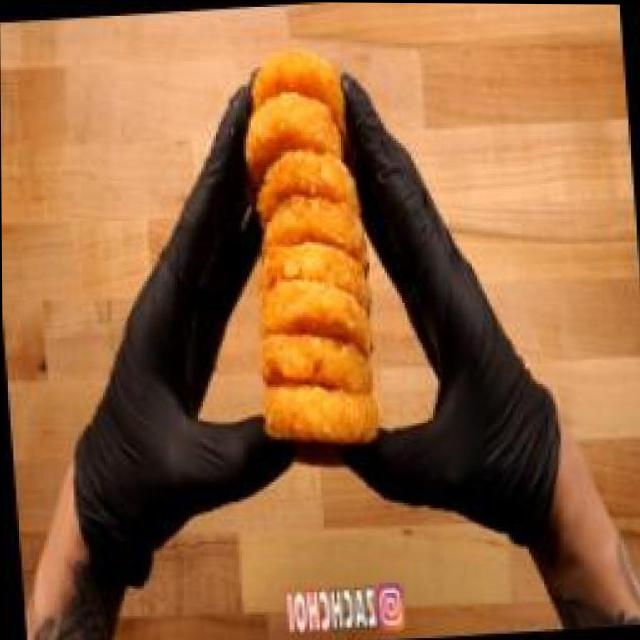Hashbrown: (218, 23, 406, 502)
